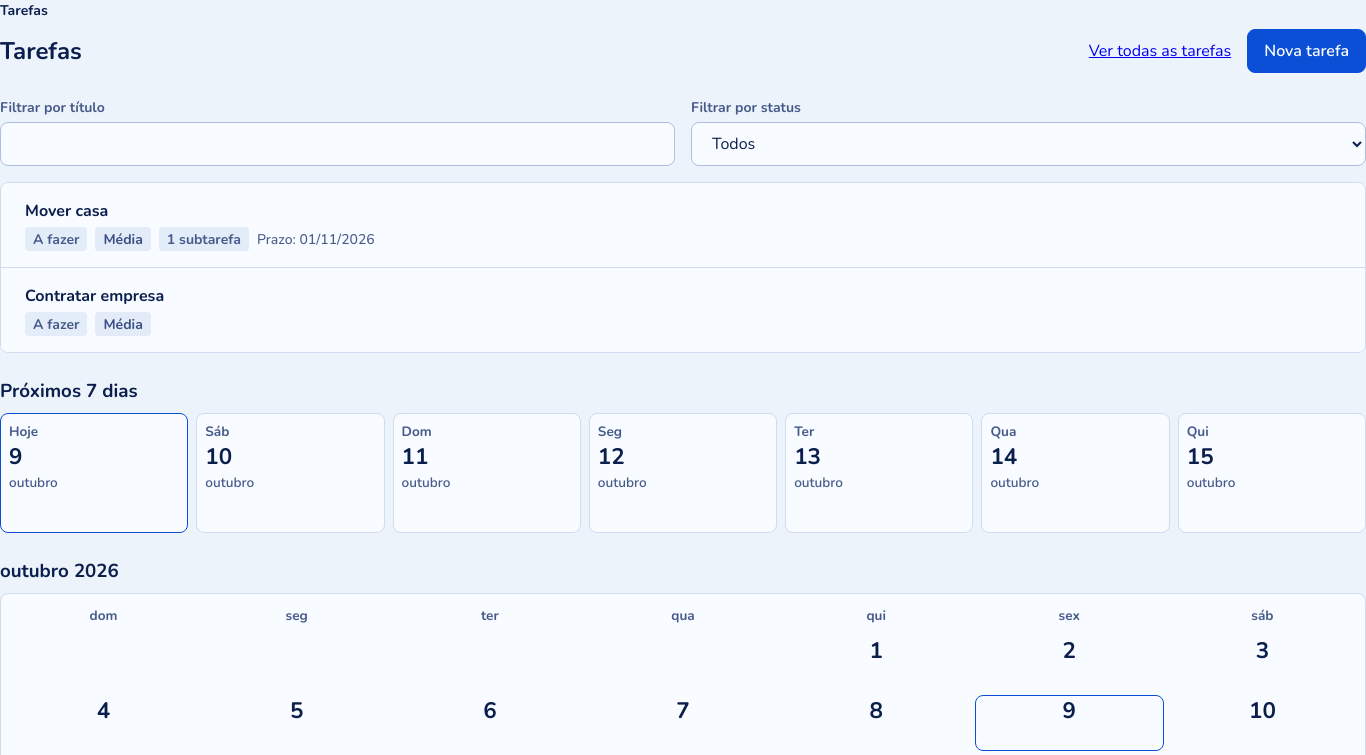
Test case: TasksPage › clicar em voltar na subtarefa retorna ao detalhe da tarefa pai
Click the button "Contratar empresa A fazer Média" at (95,296), box [1, 268, 1365, 352]
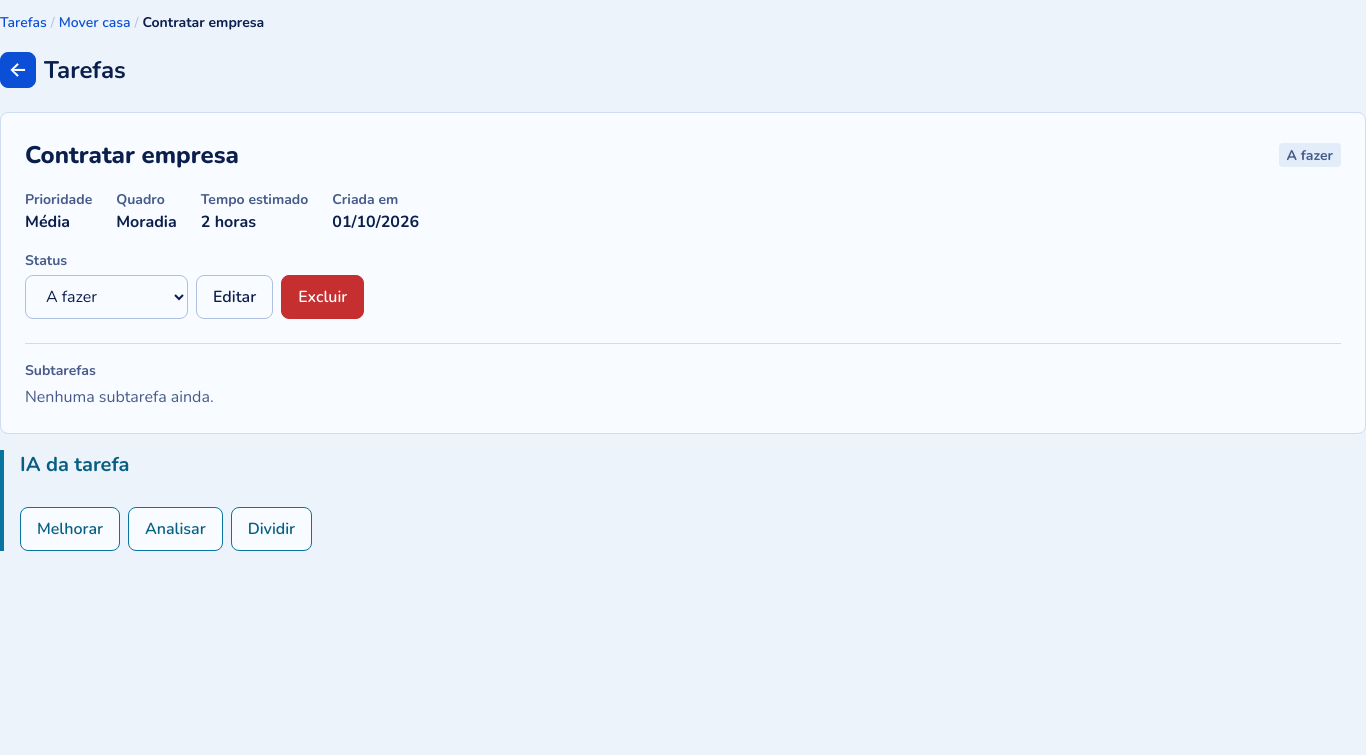
Click the button named "Voltar" at (18,70), box [0, 52, 36, 88]
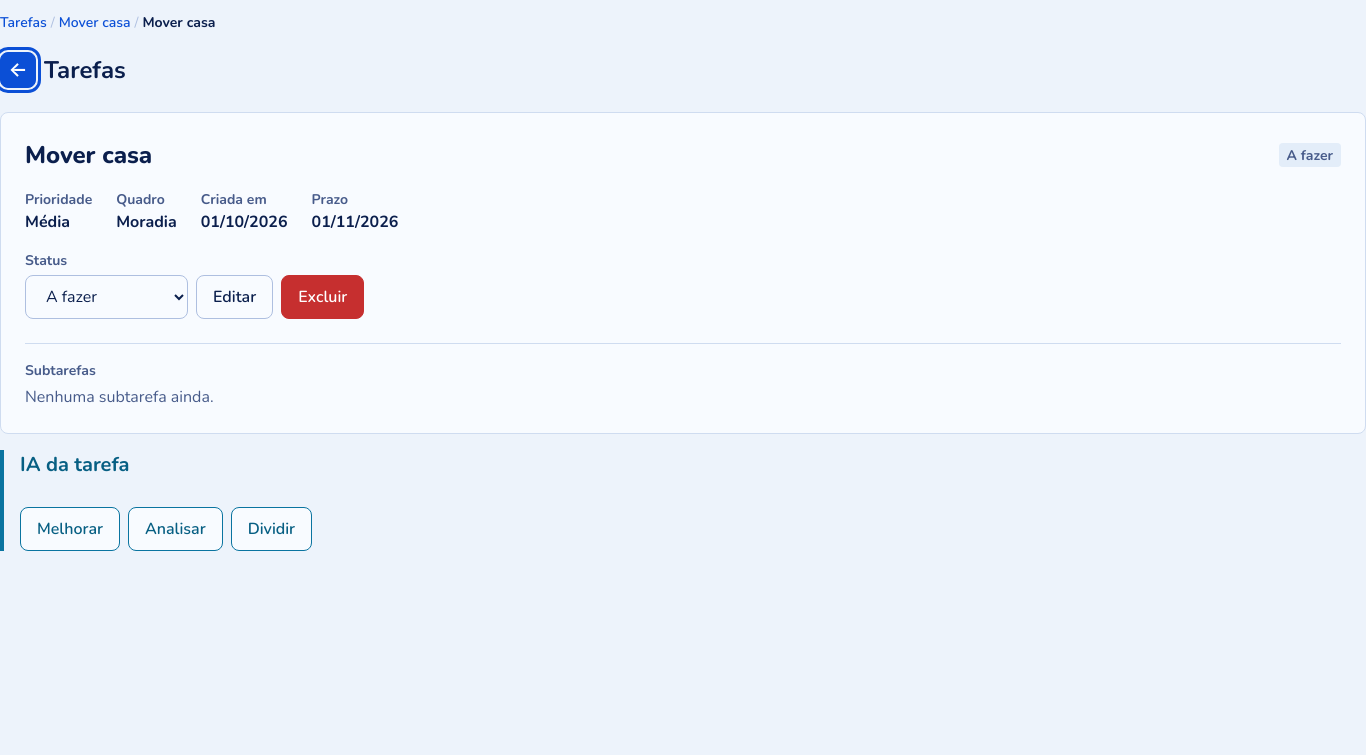
Expected: the heading "Mover casa" is shown, [25, 137, 152, 173]
